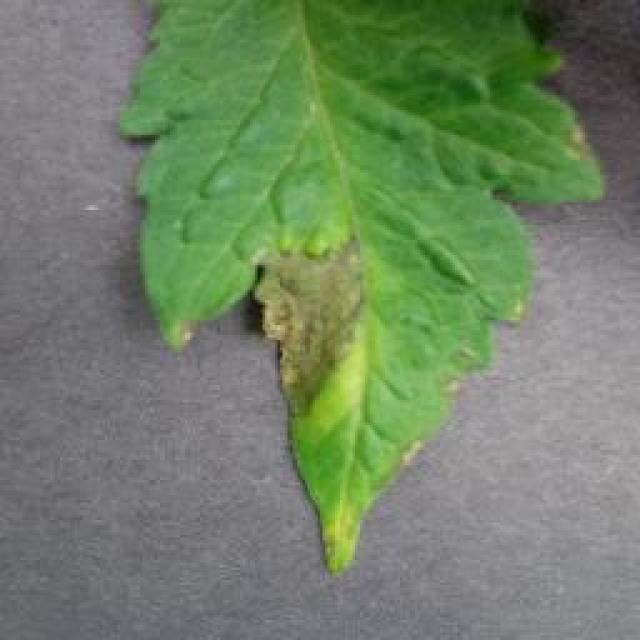Tomato Late Blight: (250, 238, 400, 420)
